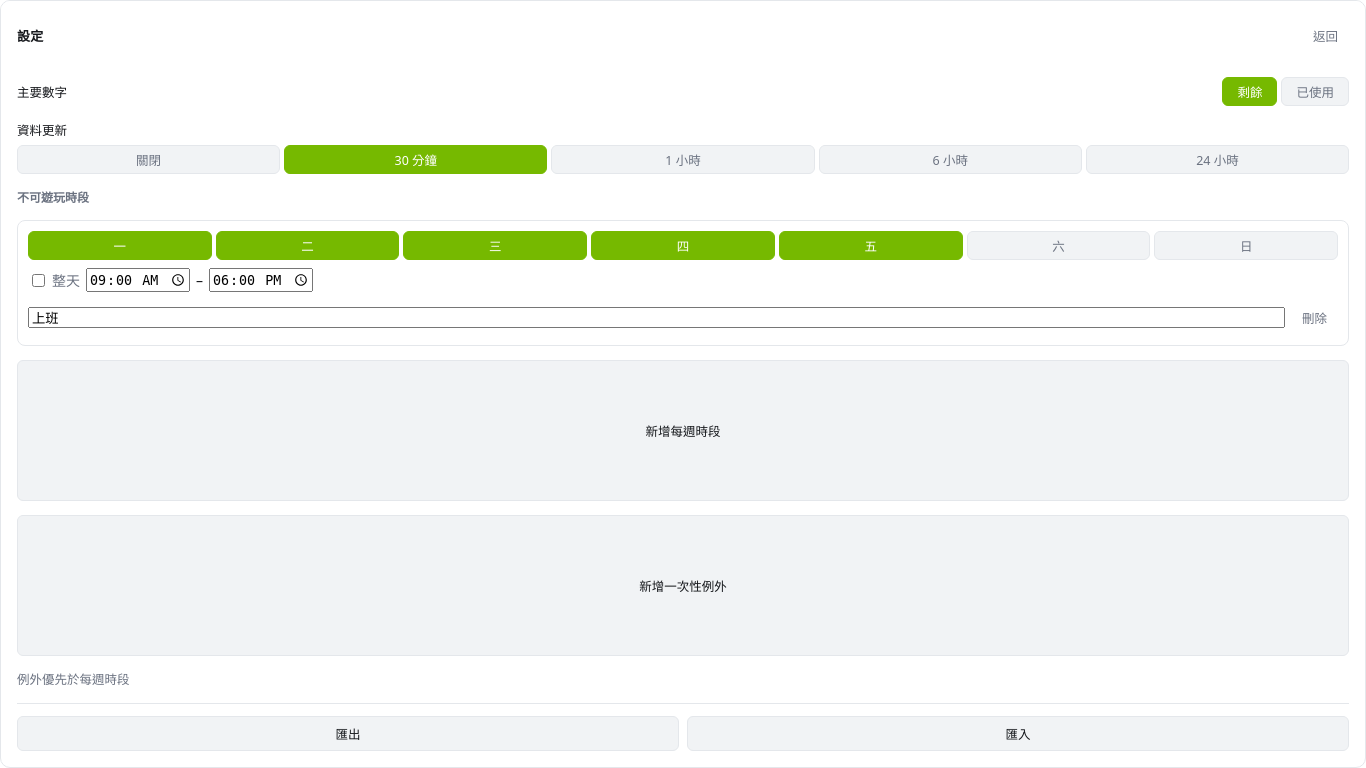
Test case: ScheduleForm 的匯出與匯入 › 匯出被拒絕時把訊息顯示在表單上
Click the button "匯出" at (348, 734), box left=17, top=716, right=679, bottom=751
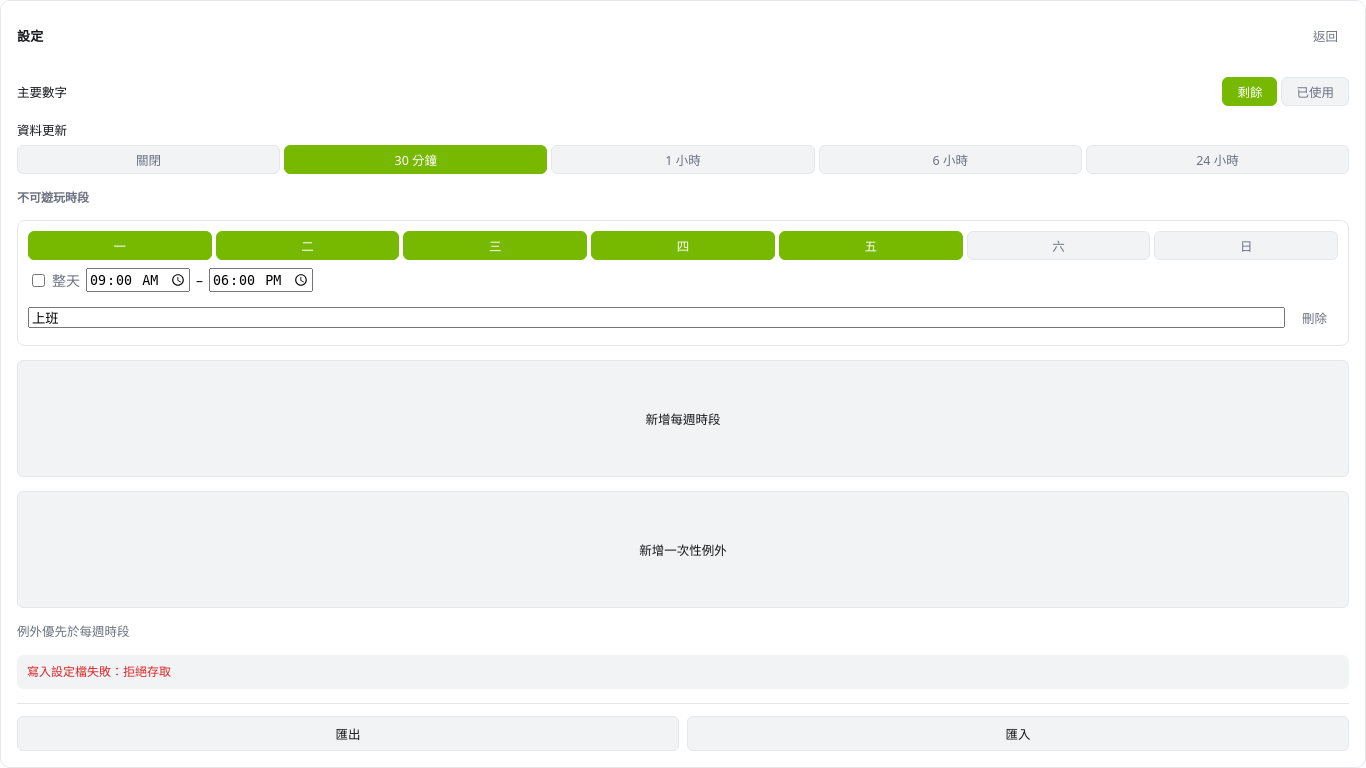
Expected: the text "寫入設定檔失敗：拒絕存取" is shown, left=17, top=655, right=1349, bottom=689
